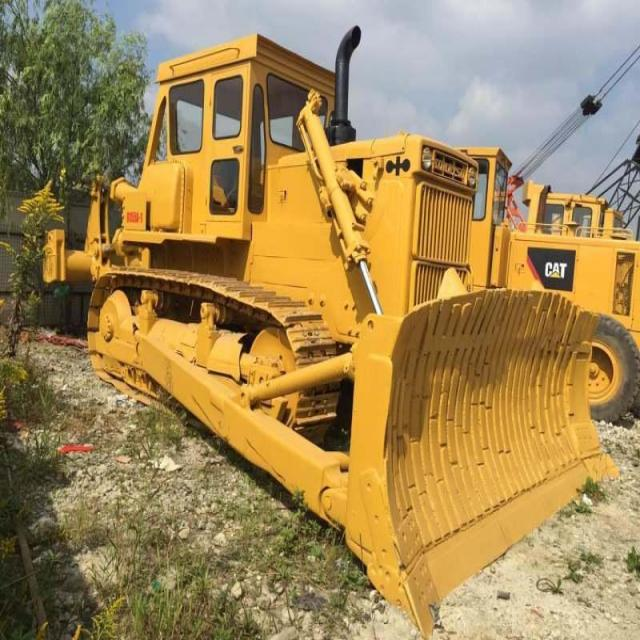Bulldozer: (38, 18, 626, 639)
